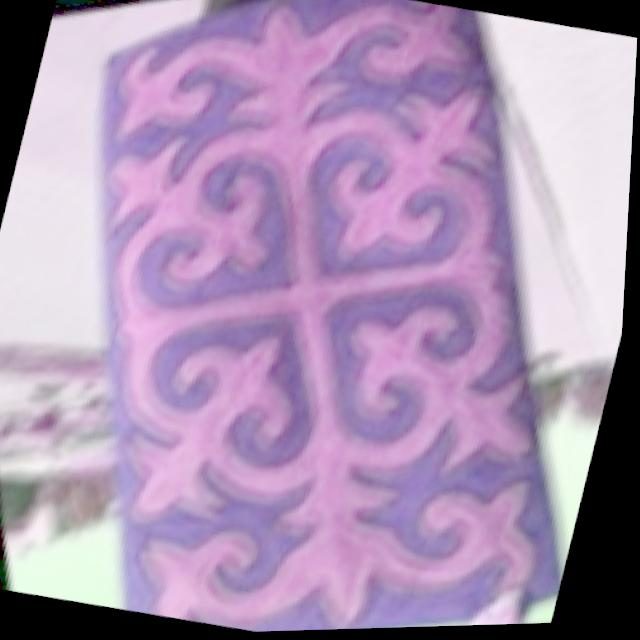Unity: (94, 83, 551, 532)
